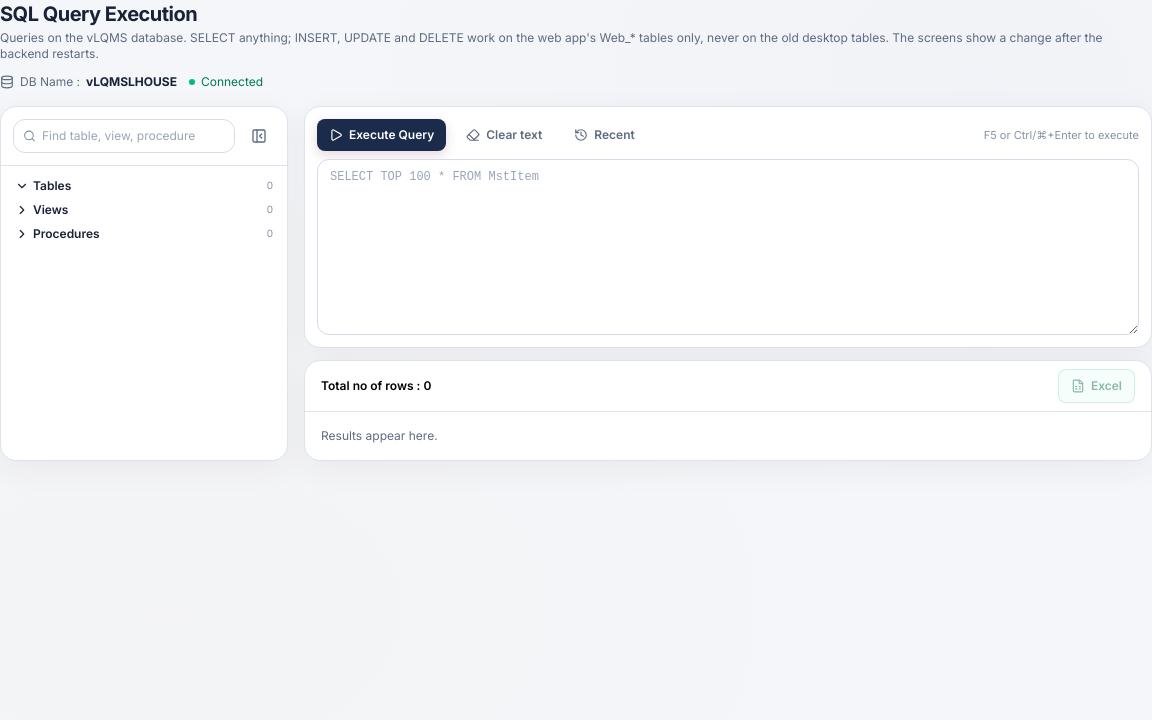
Test: SqlQueryExecution › asks before a change to a web table and shows the rows affected
The width and height of the screenshot is (1152, 720).
Expected: the text "vLQMSLHOUSE" is shown, x1=86 y1=74 x2=177 y2=90
In the text box named "SQL query": (728,247) x1=317 y1=159 x2=1139 y2=335, type "UPDATE Web_DocHeader SET Status = 'X'"
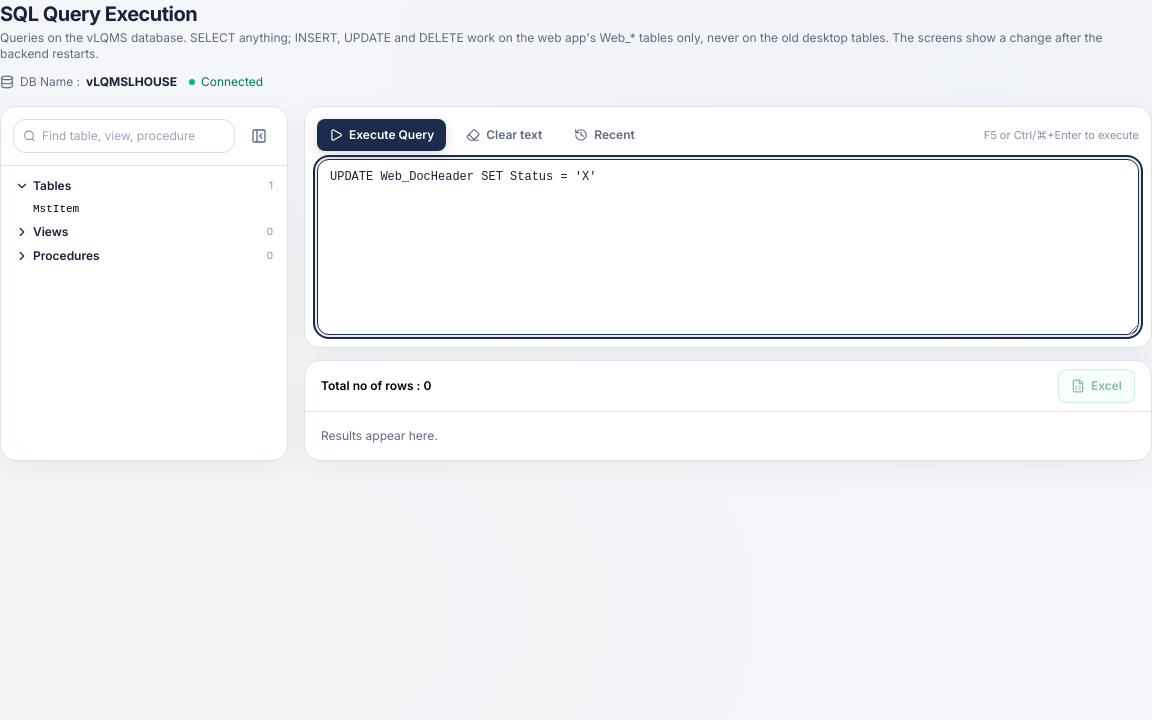
Click the button "Execute Query": (382,135) x1=317 y1=119 x2=446 y2=151
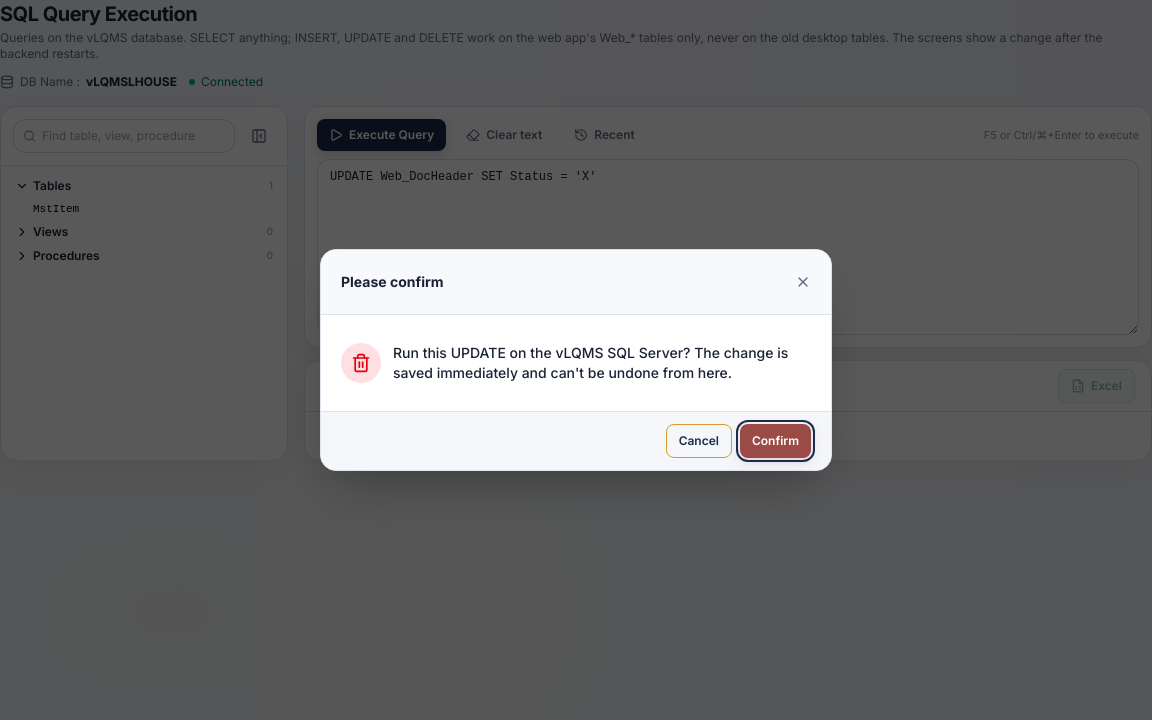
Click the button "Confirm": (775,441) x1=740 y1=424 x2=811 y2=458
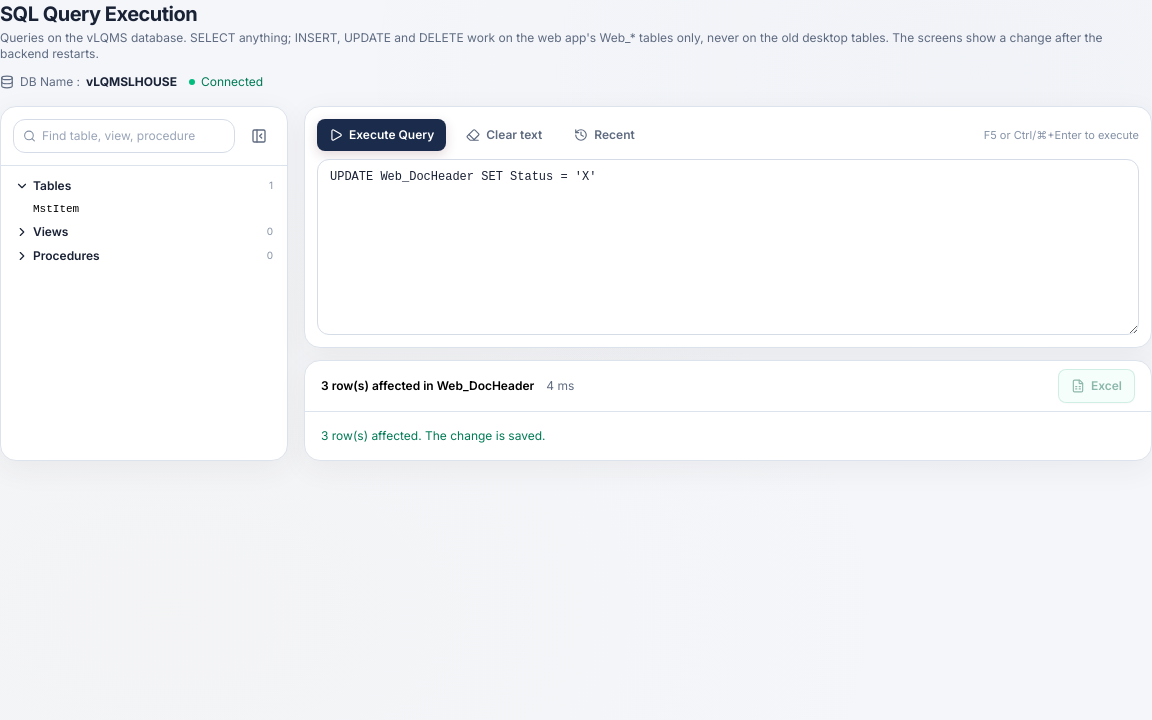
Expected: the text "3 row(s) affected in Web_DocHeader" is shown, x1=321 y1=378 x2=534 y2=394
